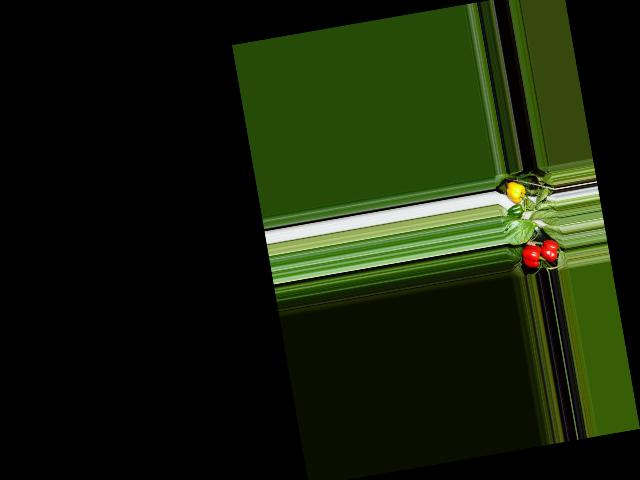bell_pepper: (502, 177, 528, 205)
